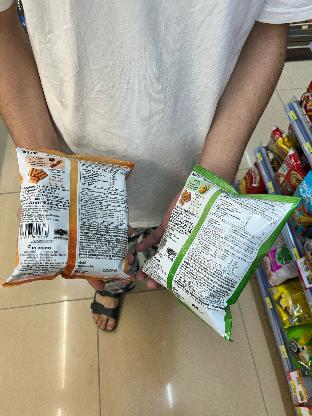Plastic Packaging: (138, 170, 304, 344), (7, 142, 141, 288)
